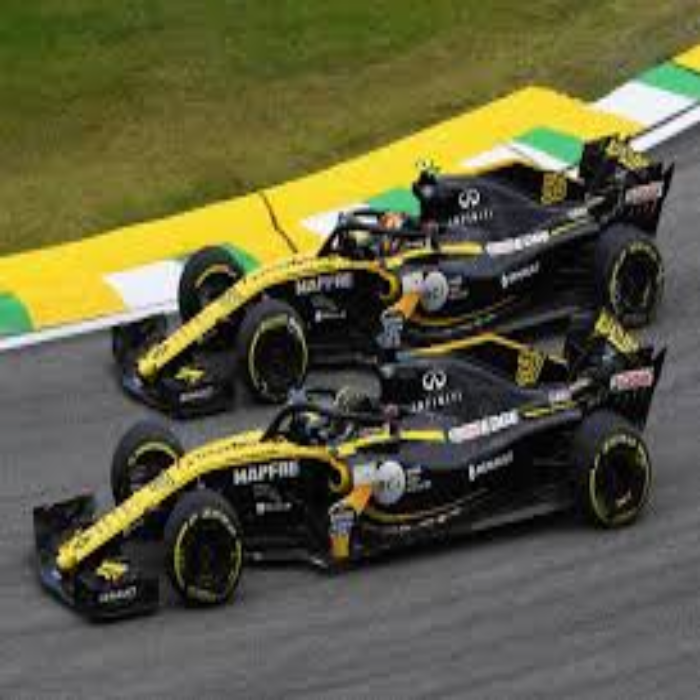f1_car: (17, 335, 685, 615), (105, 133, 674, 376)
